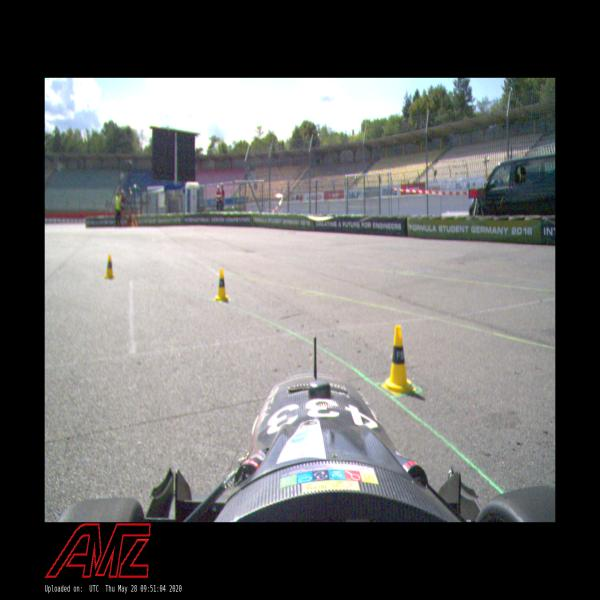yellow_cone: (383, 322, 415, 396), (214, 268, 228, 300), (103, 253, 115, 279)
